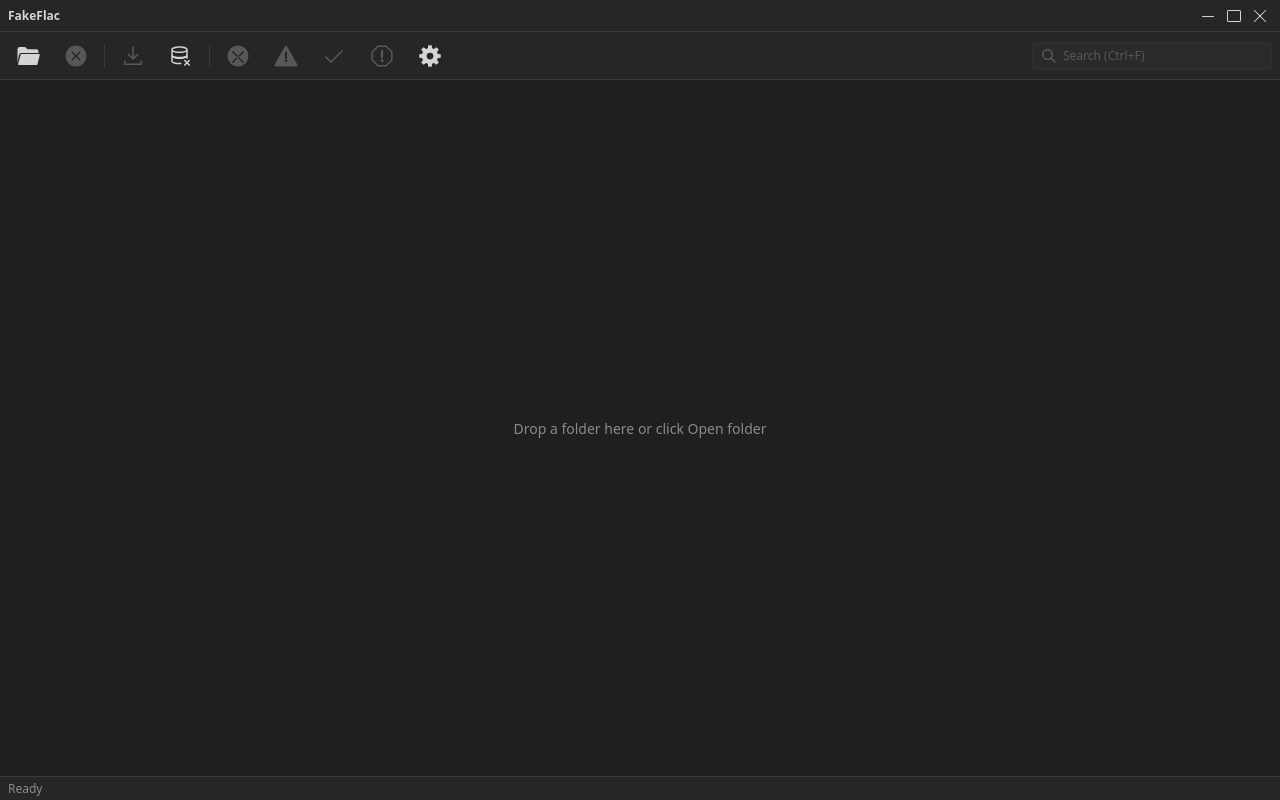
Test: Scenario: A cache notice already on screen translates (@RF-13) › reads "Caché de resultados borrada" with no additional clear_cache command
Expected: the element named "Main toolbar" is shown, [0,32,1279,80]
Click the button named "Clear results cache" at (181,56), box [161,36,201,76]
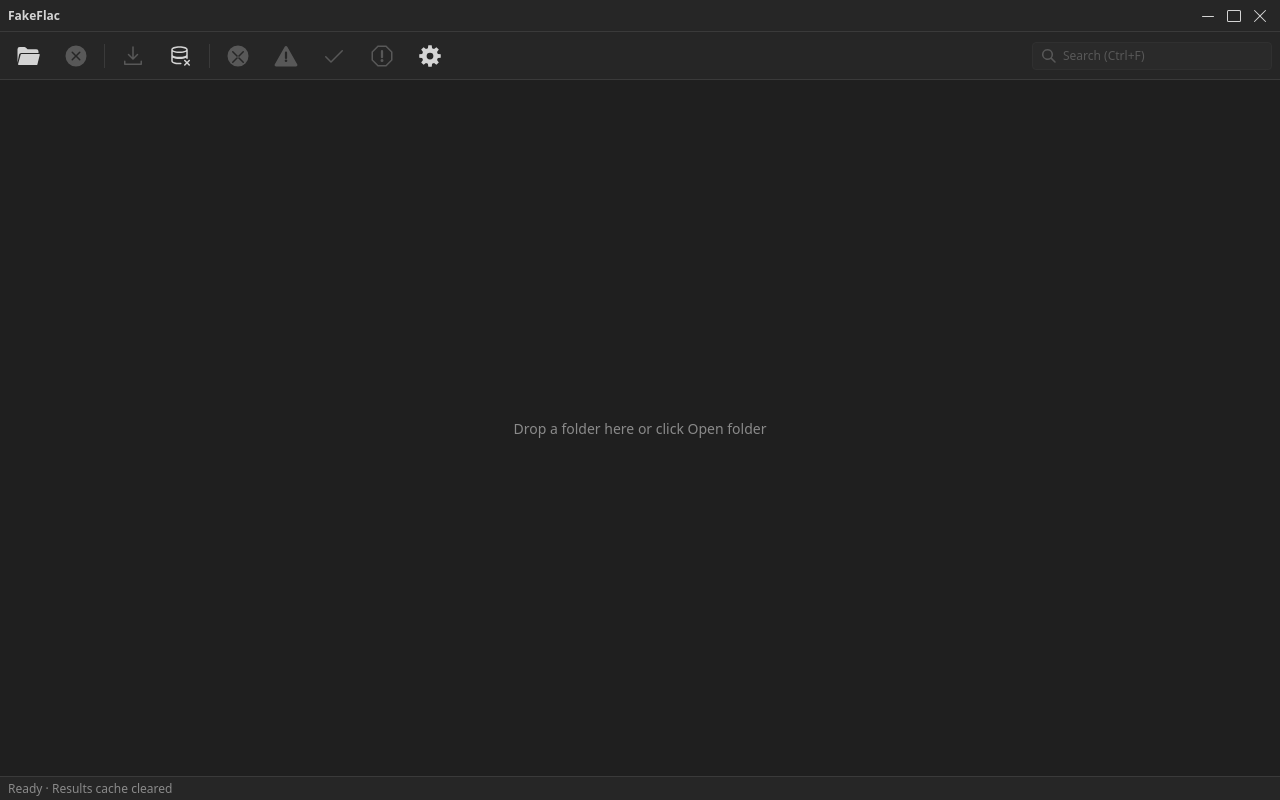
Result: the text "Ready · Results cache cleared" is shown at [8,780,172,797]
Click the button named "Settings" at (430,56), box [410,36,450,76]
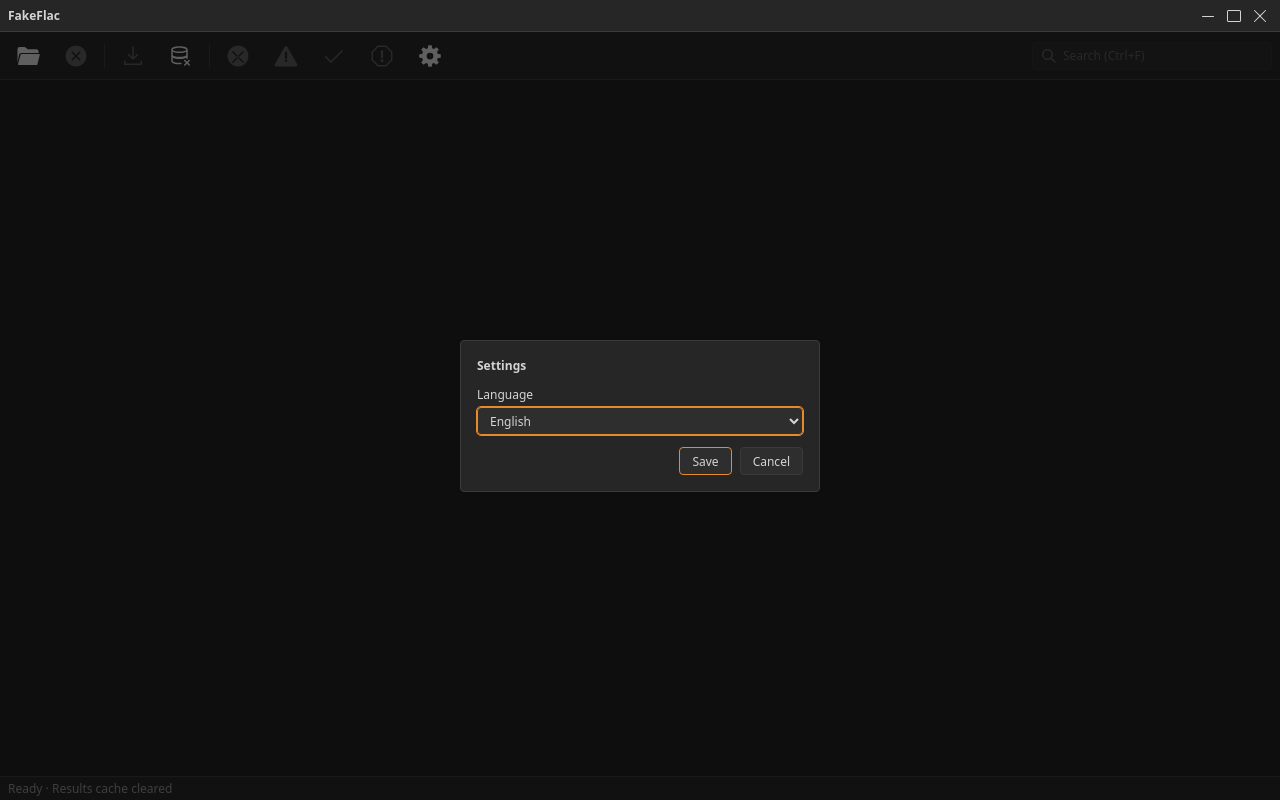
Result: the dialog is shown at [460,340,820,492]
Select "Español" in the dropdown at (640,421), box [477,407,803,435]
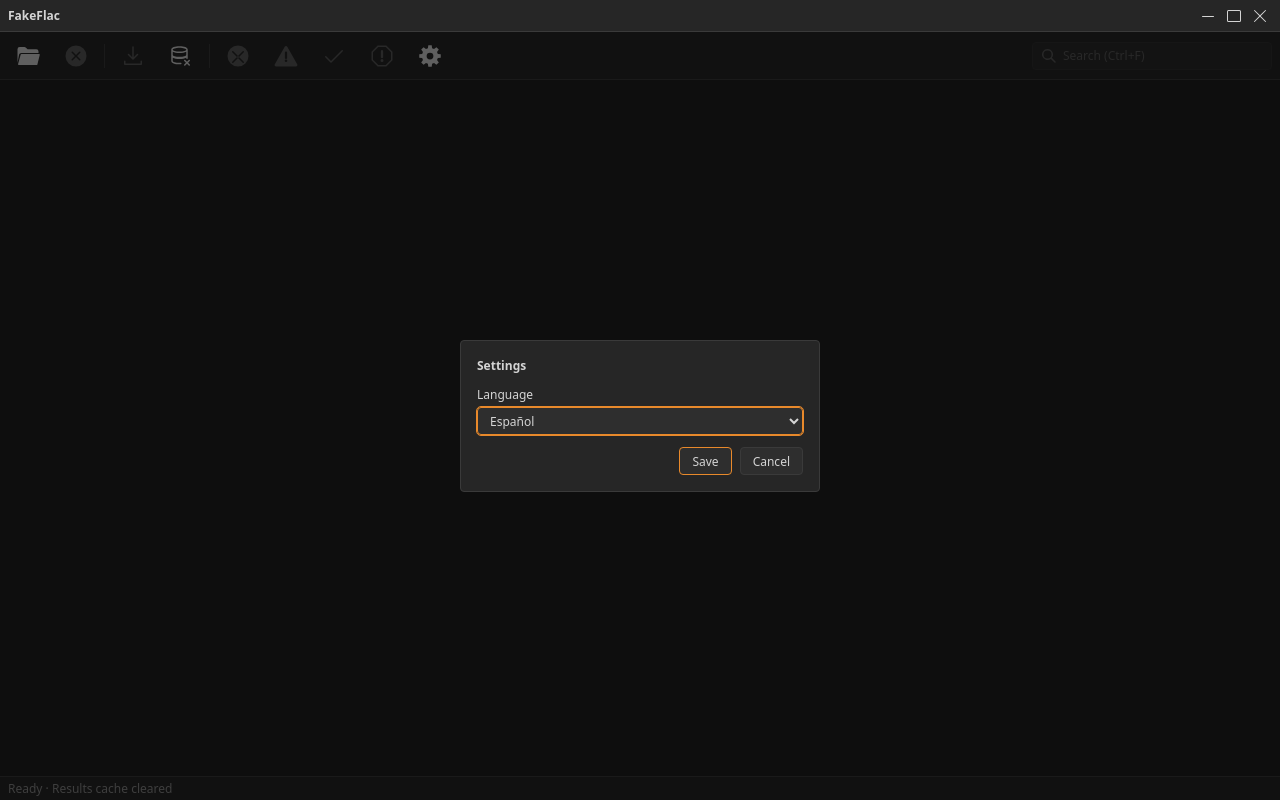
Click the button "Save" at (706,461), box [680,447,732,475]
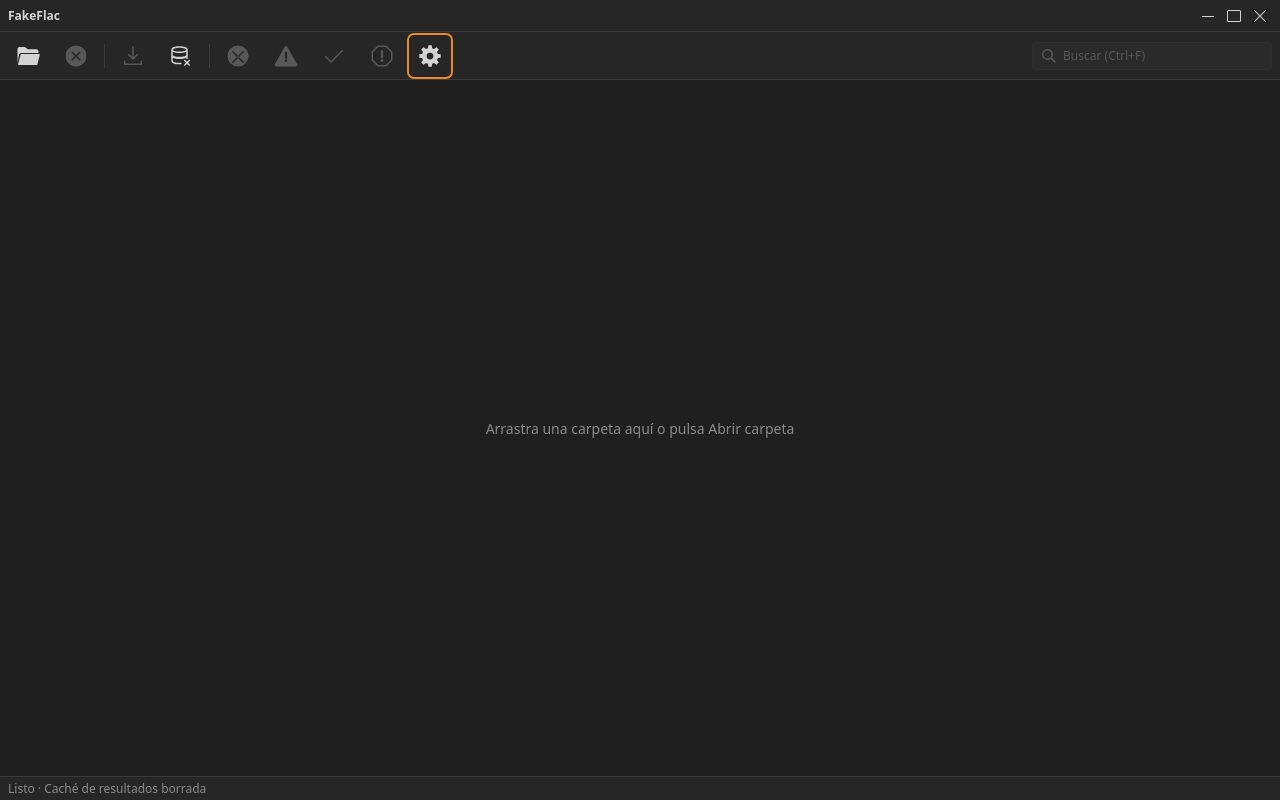
Result: the dialog is gone
Result: the text "Listo · Caché de resultados borrada" is shown at [8,780,206,797]
